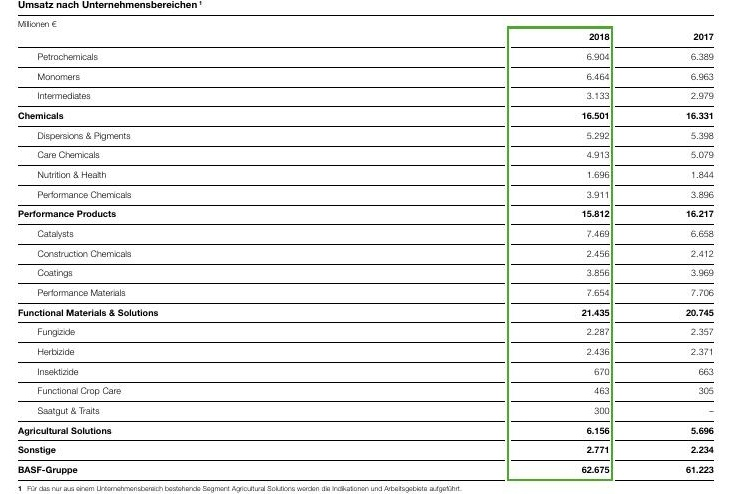table: (0, 0, 730, 494)
